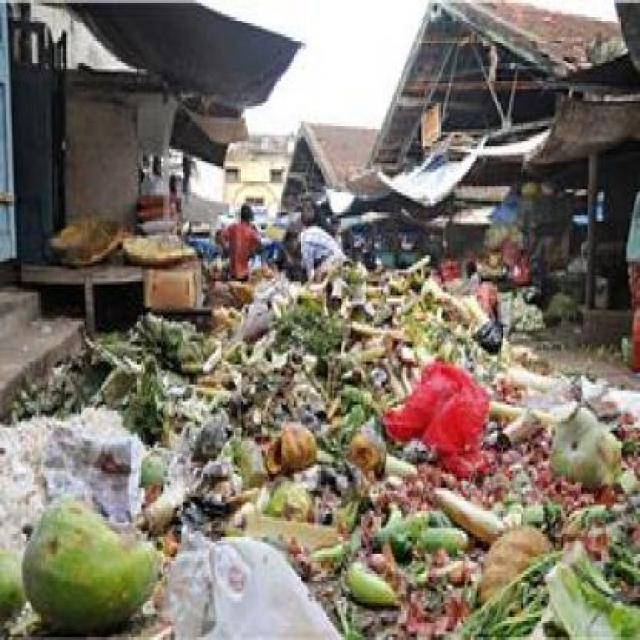garbage: (189, 289, 548, 619)
